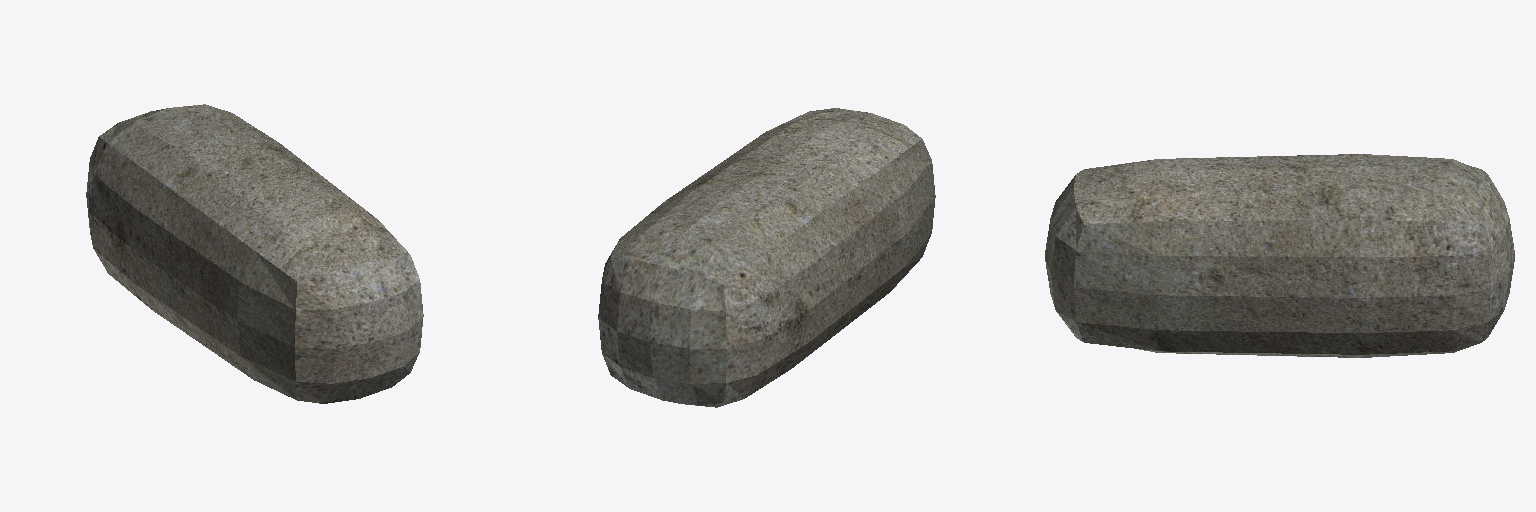
The picture shows the model from 3 angles: view 1: azimuth 30°, elevation 25°; view 2: azimuth 150°, elevation 25°; view 3: azimuth 270°, elevation 25°; orthographic projection.
Visible parts, largest first — view 1: asteroid5_Cube; view 2: asteroid5_Cube; view 3: asteroid5_Cube.
Part boxes in pixels (left/top/right/bottom): asteroid5_Cube: left=86, top=104, right=423, bottom=403; asteroid5_Cube: left=598, top=108, right=935, bottom=407; asteroid5_Cube: left=1045, top=154, right=1514, bottom=357.
Bounding box in the file's own units: 2.82 × 2.82 × 6.71.
Materials: 1 (1 with a texture image).